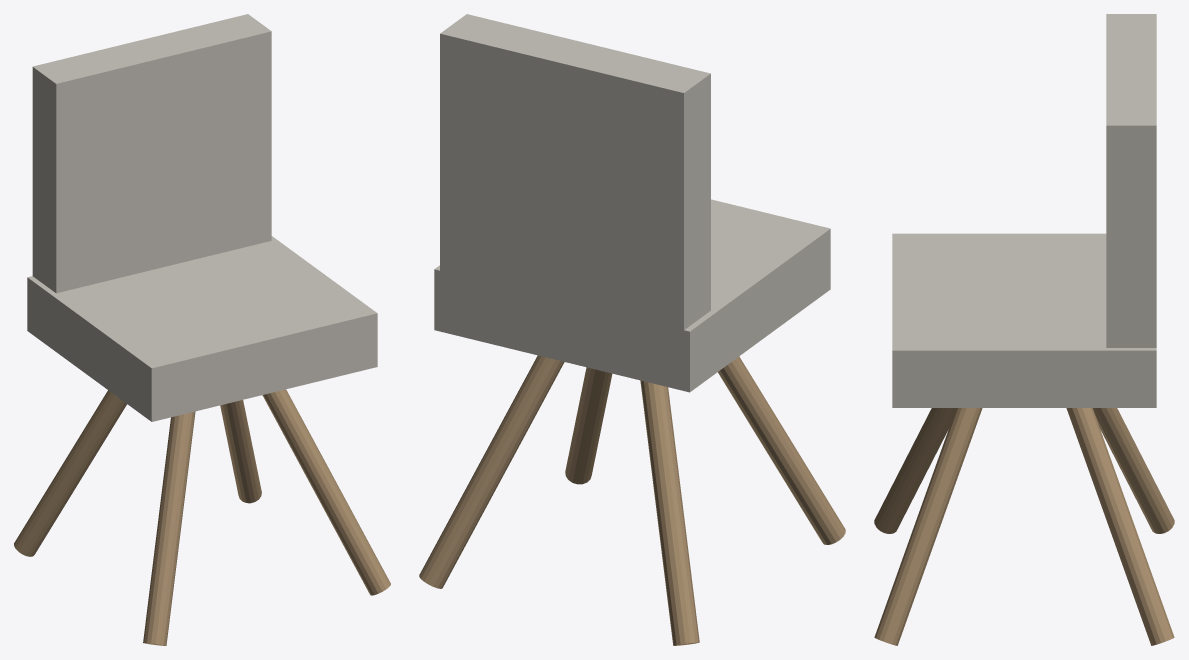
File: loire-cafe.glb
3 renders of one model, left to right at view 1: azimuth 30°, elevation 25°; view 2: azimuth 150°, elevation 25°; view 3: azimuth 270°, elevation 25°, orthographic. The views are drawn at different scales.
Parts seen in each view (by area): view 1: MMA_Upholstery, MMA_Wood; view 2: MMA_Upholstery, MMA_Wood; view 3: MMA_Upholstery, MMA_Wood.
Boxes of the visible parts, x1=… form: MMA_Upholstery: x1=27, y1=14, x2=377, y2=421; MMA_Wood: x1=14, y1=389, x2=390, y2=645; MMA_Upholstery: x1=434, y1=14, x2=830, y2=392; MMA_Wood: x1=419, y1=355, x2=845, y2=645; MMA_Upholstery: x1=892, y1=14, x2=1156, y2=407; MMA_Wood: x1=874, y1=408, x2=1174, y2=645.
Bounding box in the file's own units: 0.4777 × 0.9094 × 0.4772.
